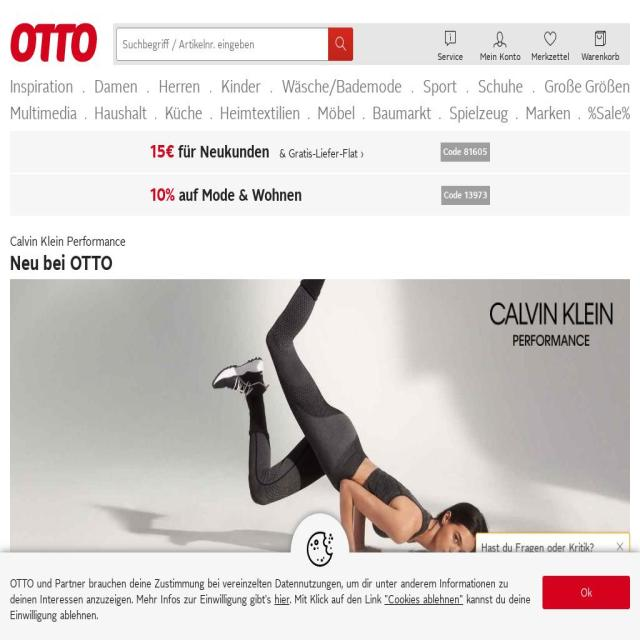button: (10, 233, 630, 589), (10, 0, 98, 68), (542, 576, 630, 609), (282, 76, 402, 98), (544, 76, 630, 98), (219, 103, 300, 125), (302, 526, 338, 572), (10, 103, 77, 125), (10, 76, 73, 98), (430, 28, 470, 62), (372, 103, 432, 125), (449, 103, 508, 125), (94, 103, 148, 125), (525, 103, 571, 125), (478, 76, 523, 98), (94, 76, 138, 98), (588, 103, 630, 125), (159, 76, 200, 98), (221, 76, 261, 98), (328, 27, 353, 61), (317, 103, 355, 125), (165, 103, 202, 125), (423, 76, 457, 98), (610, 534, 630, 558)
field: (116, 27, 353, 61)
image: (10, 279, 630, 589), (490, 302, 612, 346), (10, 21, 98, 64), (302, 526, 338, 572)
link: (274, 592, 290, 606)
text: (10, 592, 531, 622), (10, 251, 630, 276), (10, 576, 508, 606), (10, 232, 630, 251), (10, 557, 630, 576), (282, 76, 402, 96), (480, 540, 624, 556), (179, 186, 302, 204), (178, 142, 270, 161), (544, 76, 630, 96), (219, 104, 300, 124), (596, 581, 630, 627), (279, 146, 364, 162), (10, 104, 77, 124), (290, 592, 384, 606), (10, 76, 73, 96), (372, 104, 432, 124), (449, 104, 508, 124), (384, 592, 464, 606), (94, 104, 148, 124), (441, 142, 490, 162), (430, 27, 470, 51), (480, 27, 520, 51), (530, 27, 570, 51), (580, 27, 620, 51), (441, 186, 490, 205), (525, 104, 571, 124), (478, 76, 523, 96), (94, 76, 138, 96), (588, 104, 630, 124), (159, 76, 200, 96), (221, 76, 261, 96), (317, 104, 355, 124), (165, 104, 202, 124), (150, 183, 179, 207), (423, 76, 457, 96), (150, 140, 178, 163), (430, 51, 470, 62), (480, 51, 520, 62), (530, 51, 570, 62), (580, 51, 620, 62), (333, 34, 348, 54), (616, 539, 624, 553)
